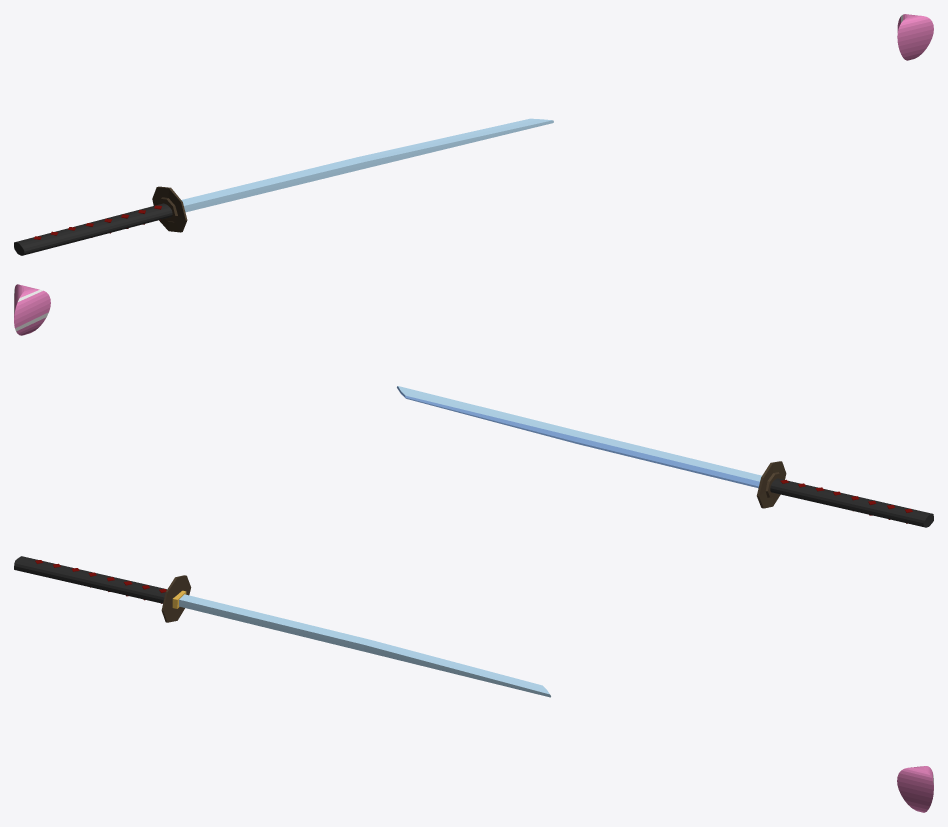
The model's file is katana1.glb.
3 views of the same model, one above another, from view 1: azimuth 30°, elevation 25°; view 2: azimuth 150°, elevation 25°; view 3: azimuth 330°, elevation 25° (orthographic).
Parts seen in each view (by area): view 1: Cube, Sphere; view 2: Cube, Sphere; view 3: Cube, Sphere.
Part boxes in pixels (x1,y1,x2,y2): Cube: [14, 118, 553, 255]; Sphere: [897, 14, 933, 60]; Cube: [397, 386, 933, 527]; Sphere: [14, 284, 50, 335]; Cube: [14, 556, 550, 697]; Sphere: [897, 766, 933, 812].
Size of the model in its own units: 5.91 by 0.3241 by 0.3426.
